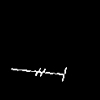treble_crochet: (13, 68, 66, 80)
